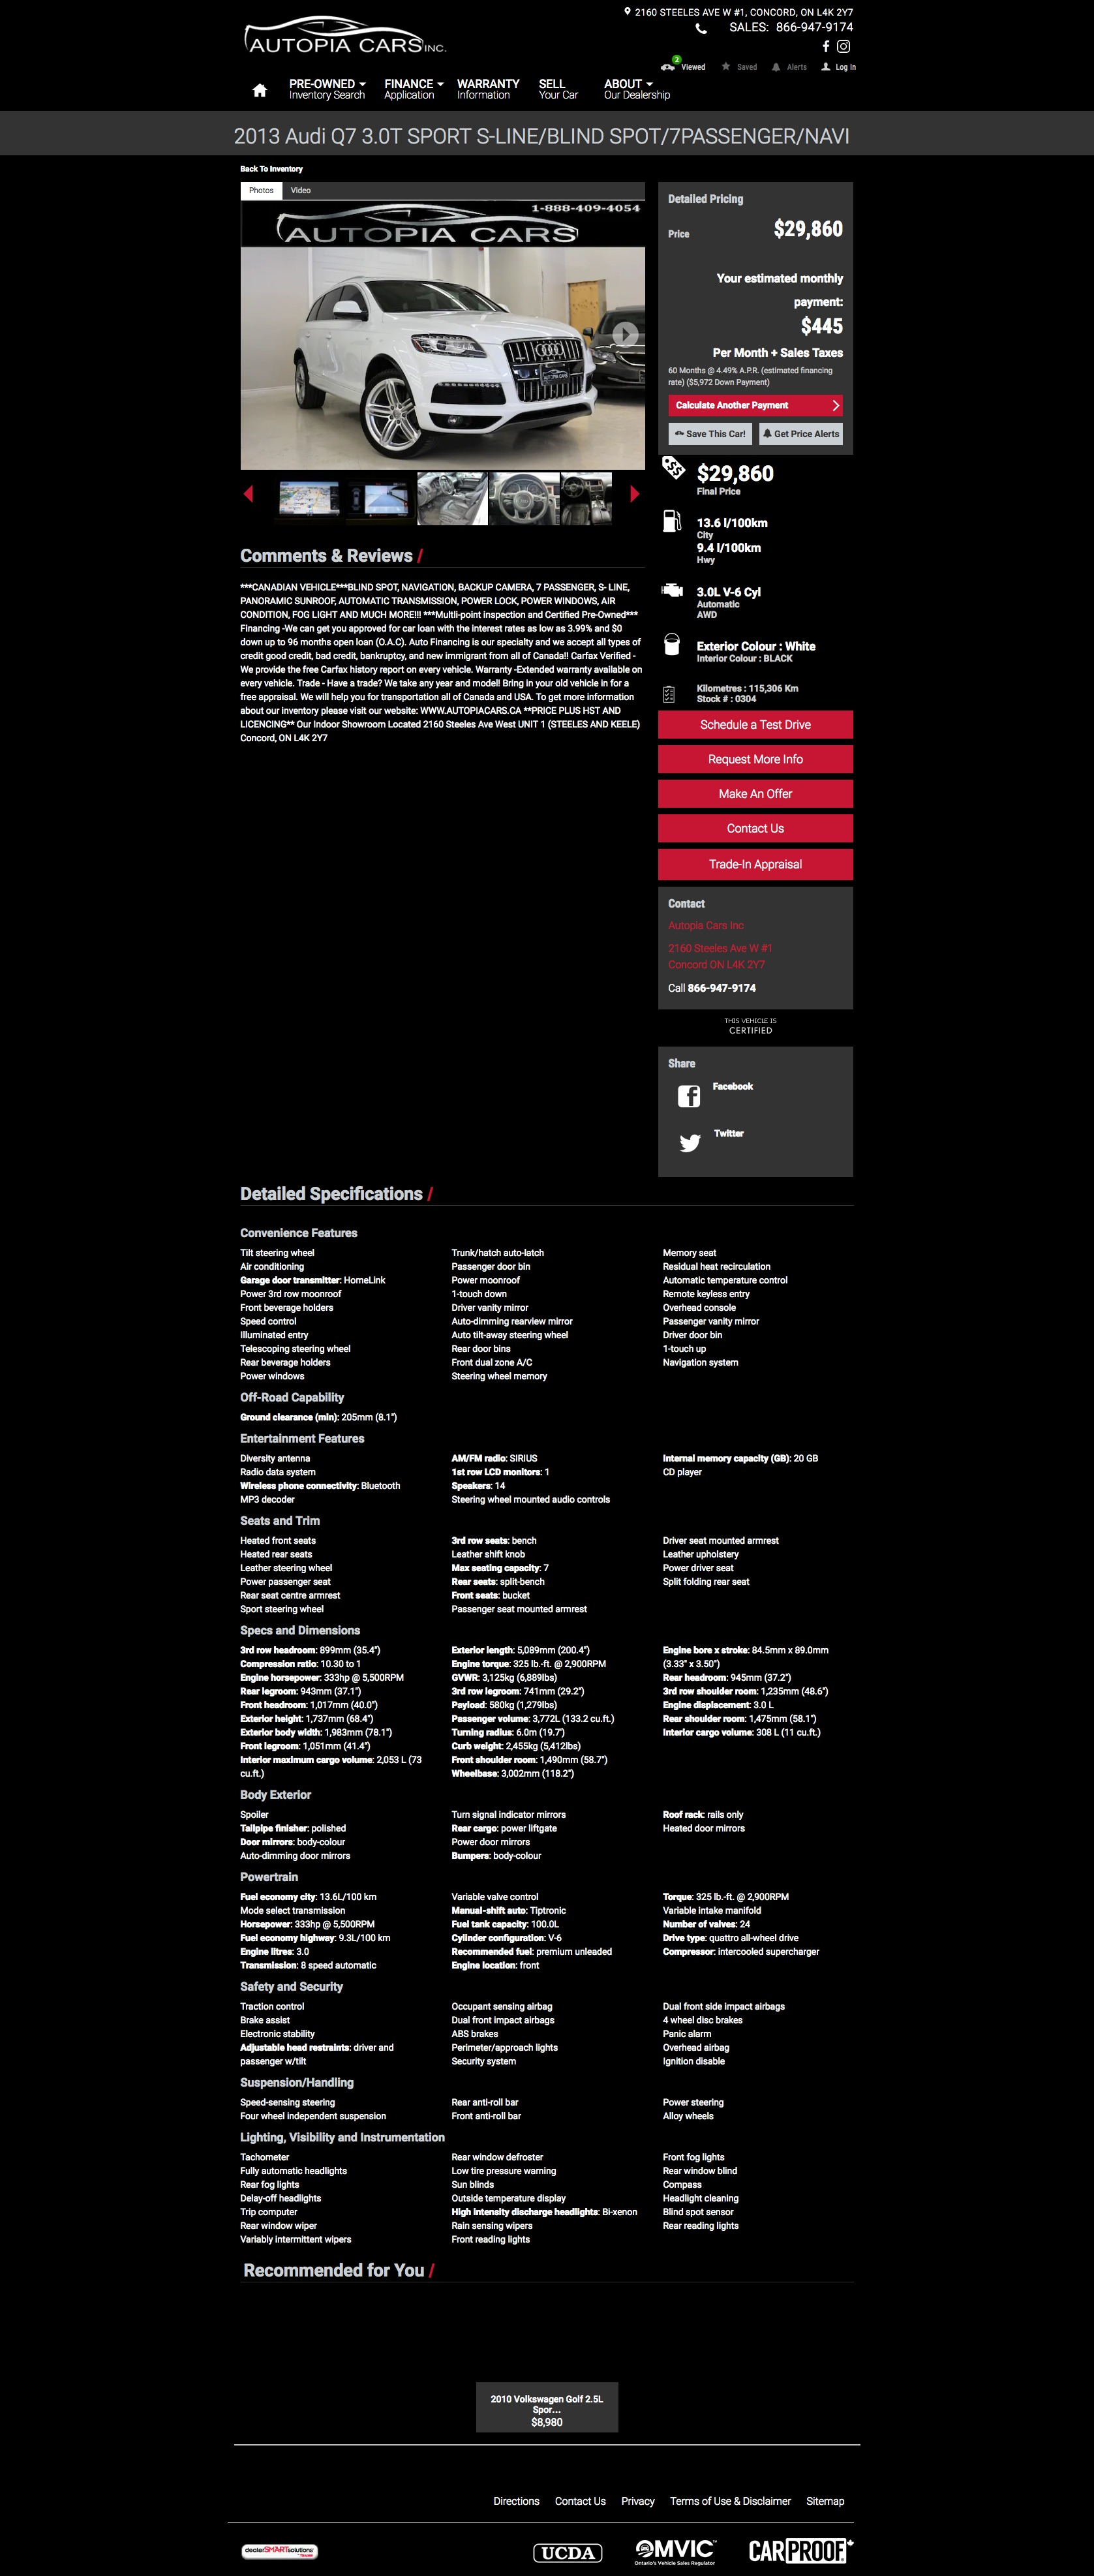car: (629, 485, 641, 504)
